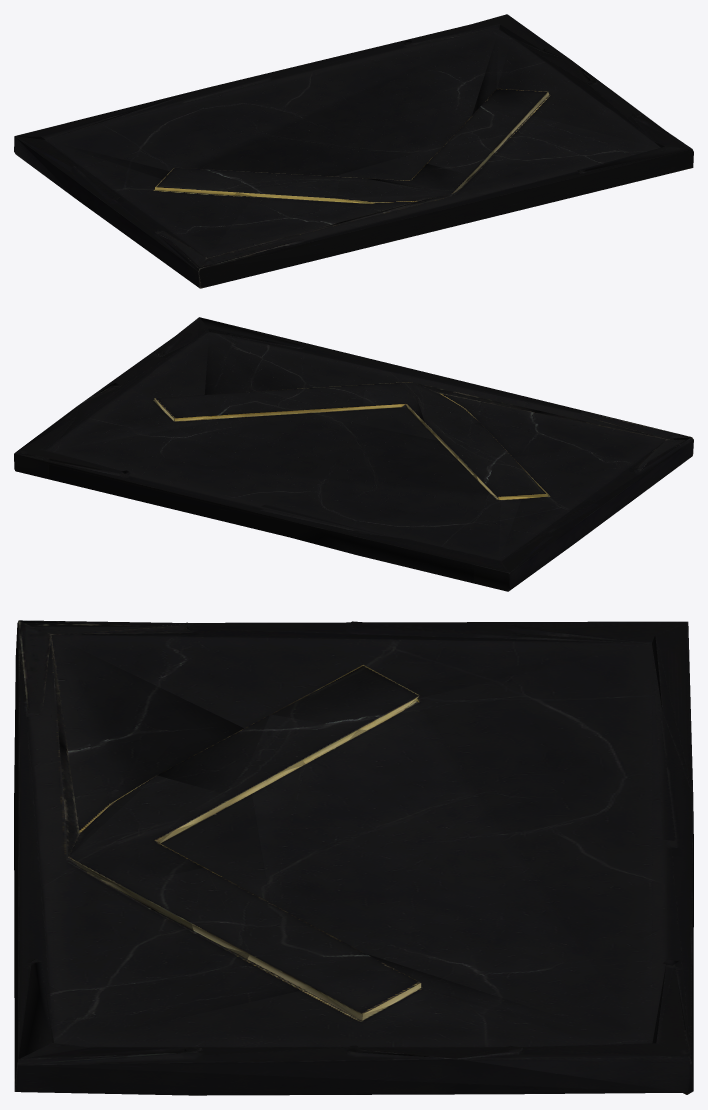
File: PR_WasteDropOffPlatform.fbx
3 renders of one model, top to bottom at view 1: azimuth 30°, elevation 25°; view 2: azimuth 150°, elevation 25°; view 3: azimuth 270°, elevation 25°, orthographic. The views are drawn at different scales.
Parts seen in each view (by area): view 1: Mesh_0; view 2: Mesh_0; view 3: Mesh_0.
Part boxes in pixels (x1,y1,x2,y2): Mesh_0: (14, 14, 693, 288); Mesh_0: (14, 317, 693, 591); Mesh_0: (14, 620, 693, 1095).
Size of the model in its own units: 190 by 8.44 by 124.
1 material, 1 textured.
